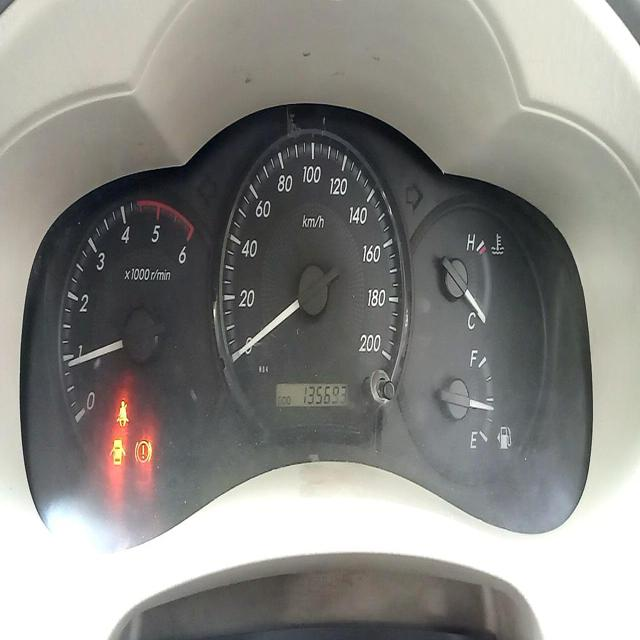odometer: (301, 382, 348, 408)
